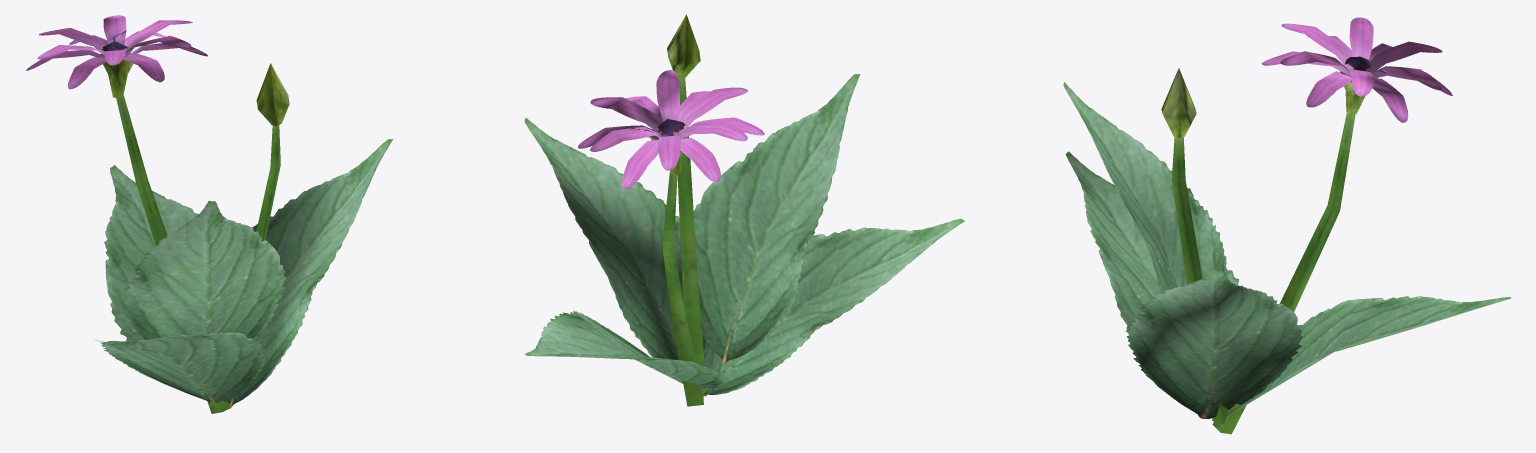
Rendered from pinkf1.obj.
3 views of the same model, side by side, from view 1: azimuth 30°, elevation 25°; view 2: azimuth 150°, elevation 25°; view 3: azimuth 270°, elevation 25° (orthographic). The views are drawn at different scales.
Visible parts, largest first — view 1: pinkf01; view 2: pinkf01; view 3: pinkf01.
Boxes of the visible parts, x1,y1,x2,y2 form: pinkf01: [26, 15, 393, 413]; pinkf01: [524, 14, 964, 406]; pinkf01: [1063, 17, 1511, 434].
Bounding box in the file's own units: 25.08 × 20.97 × 25.97.
2 materials, 2 textured.
